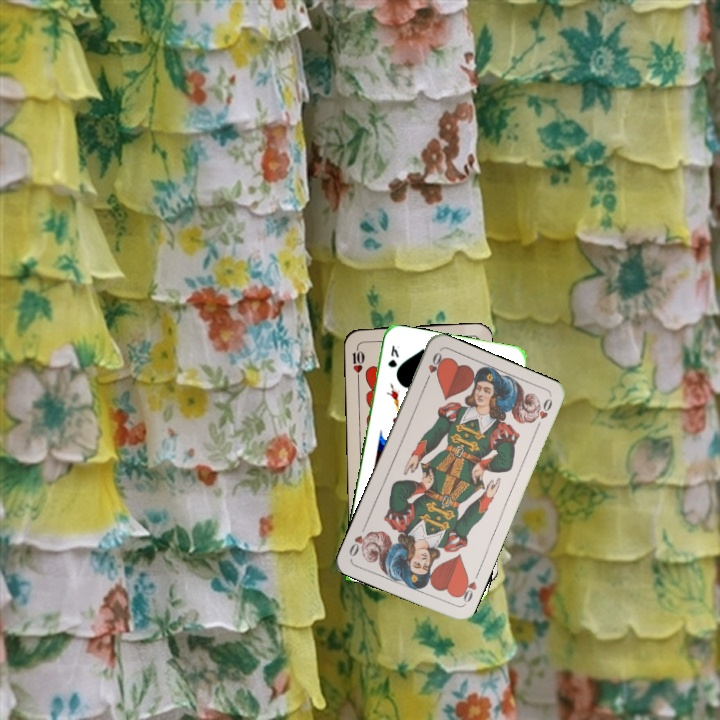GK: (384, 342, 402, 370)
H10: (348, 341, 367, 382)
HO: (421, 348, 445, 386), (455, 572, 479, 607)
